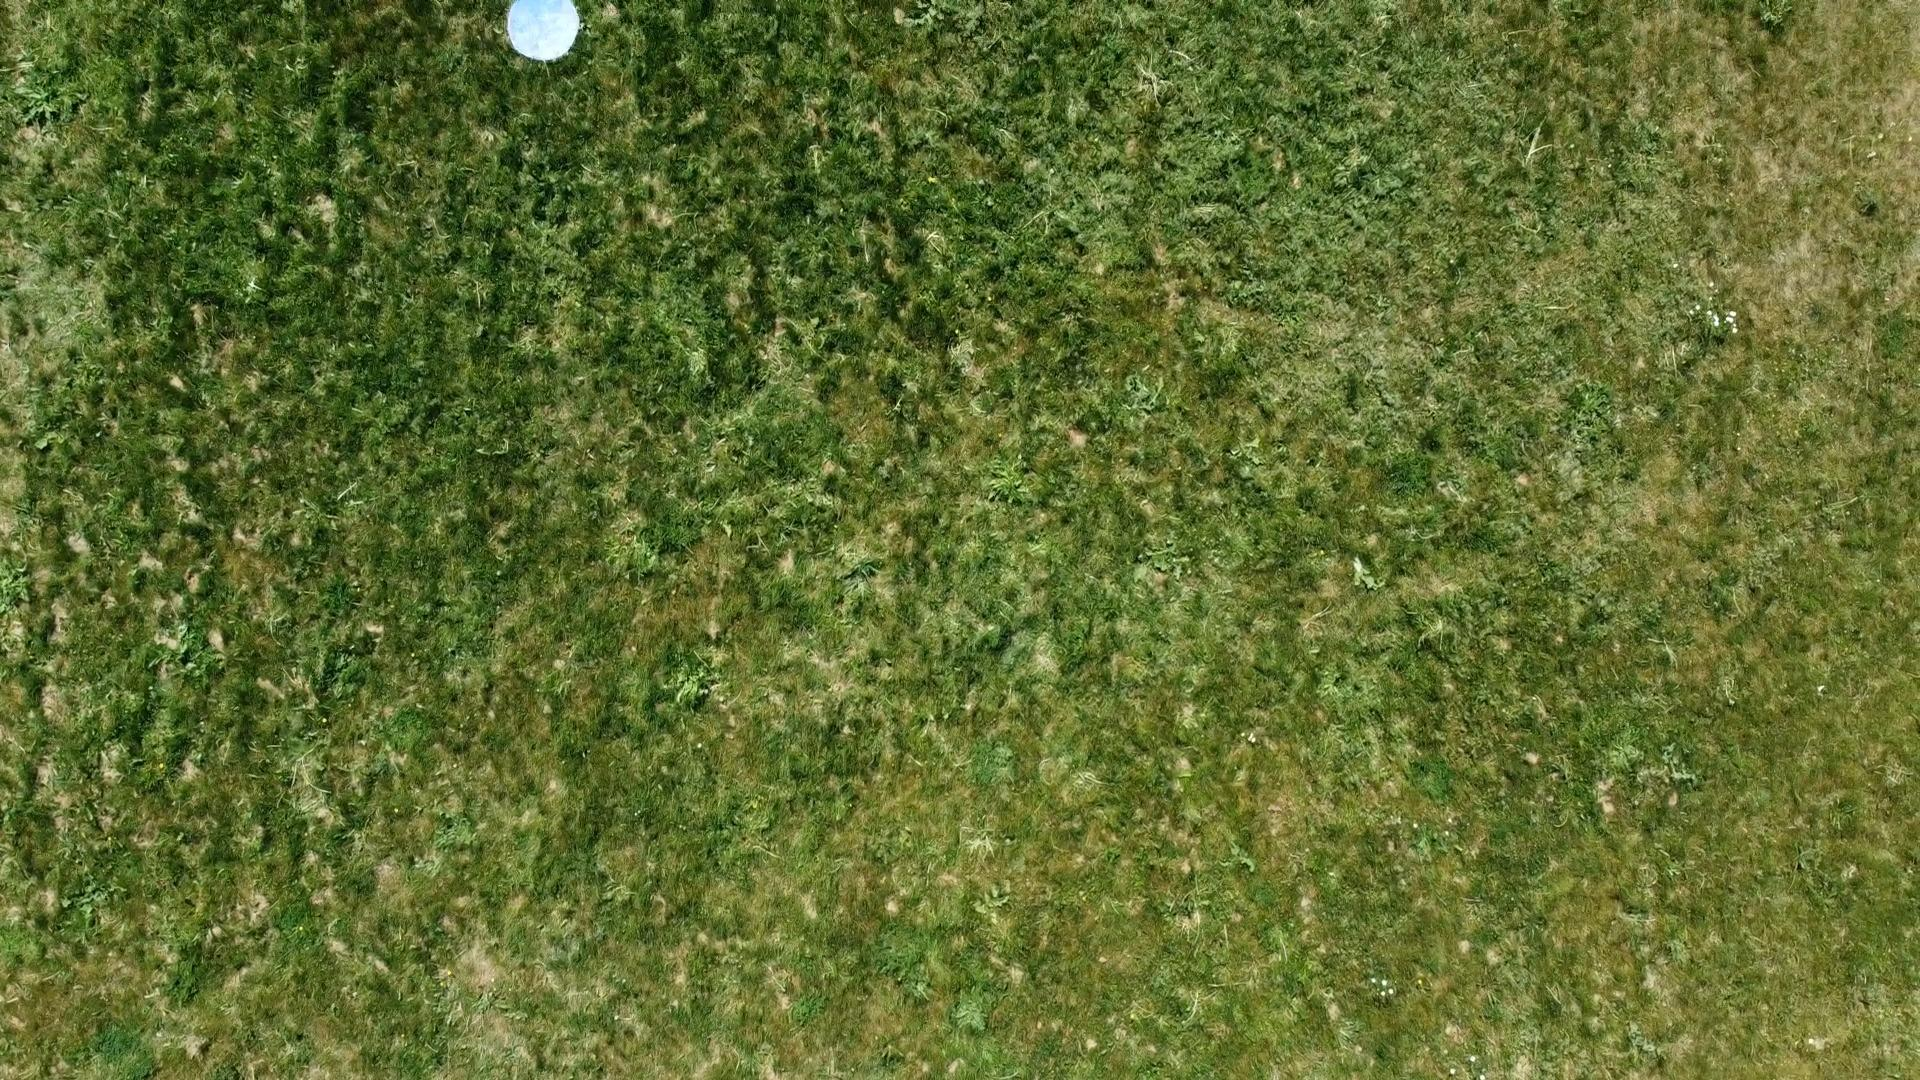Blue: (505, 0, 583, 63)
